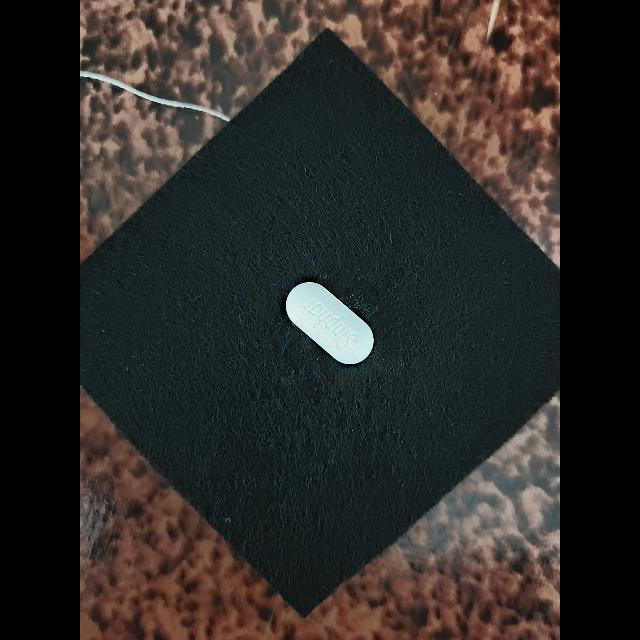Intact Pill: (286, 281, 374, 365)
